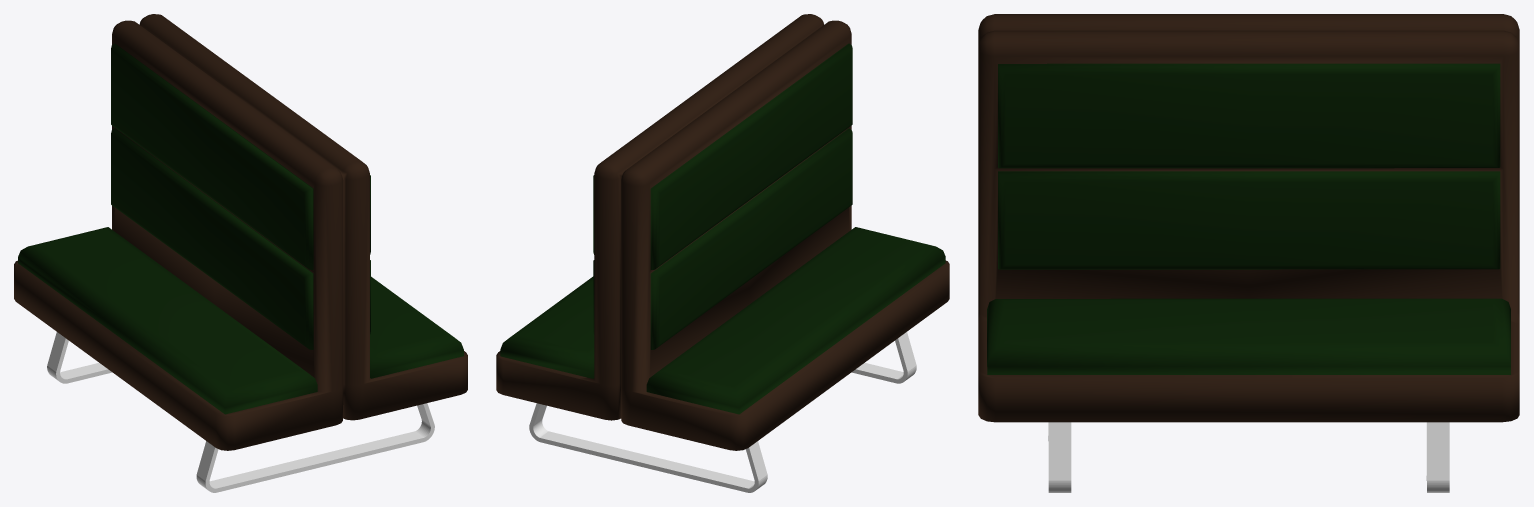
Rendered from banco_final.fbx.
3 views of the same model, side by side, from view 1: azimuth 30°, elevation 25°; view 2: azimuth 150°, elevation 25°; view 3: azimuth 270°, elevation 25° (orthographic). The views are drawn at different scales.
Visible parts, largest first — view 1: Plane.309, Plane.311; view 2: Plane.309, Plane.311; view 3: Plane.309, Plane.311.
Boxes of the visible parts, x1=… form: Plane.309: x1=14, y1=14, x2=467, y2=450; Plane.311: x1=47, y1=332, x2=434, y2=492; Plane.309: x1=496, y1=14, x2=949, y2=450; Plane.311: x1=529, y1=332, x2=916, y2=492; Plane.309: x1=978, y1=14, x2=1519, y2=422; Plane.311: x1=1048, y1=422, x2=1449, y2=492.
Bounding box in the file's own units: 88.65 × 107 × 131.
